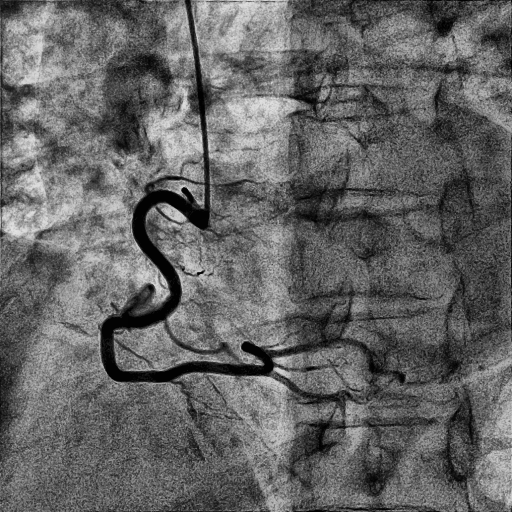pborca: (241, 338, 404, 383)
pda: (266, 369, 348, 430)
rca: (101, 190, 273, 382)
